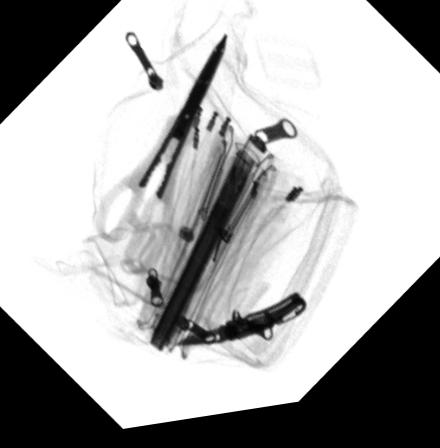Knife: (173, 299, 307, 352)
Scissors: (93, 40, 226, 281)
